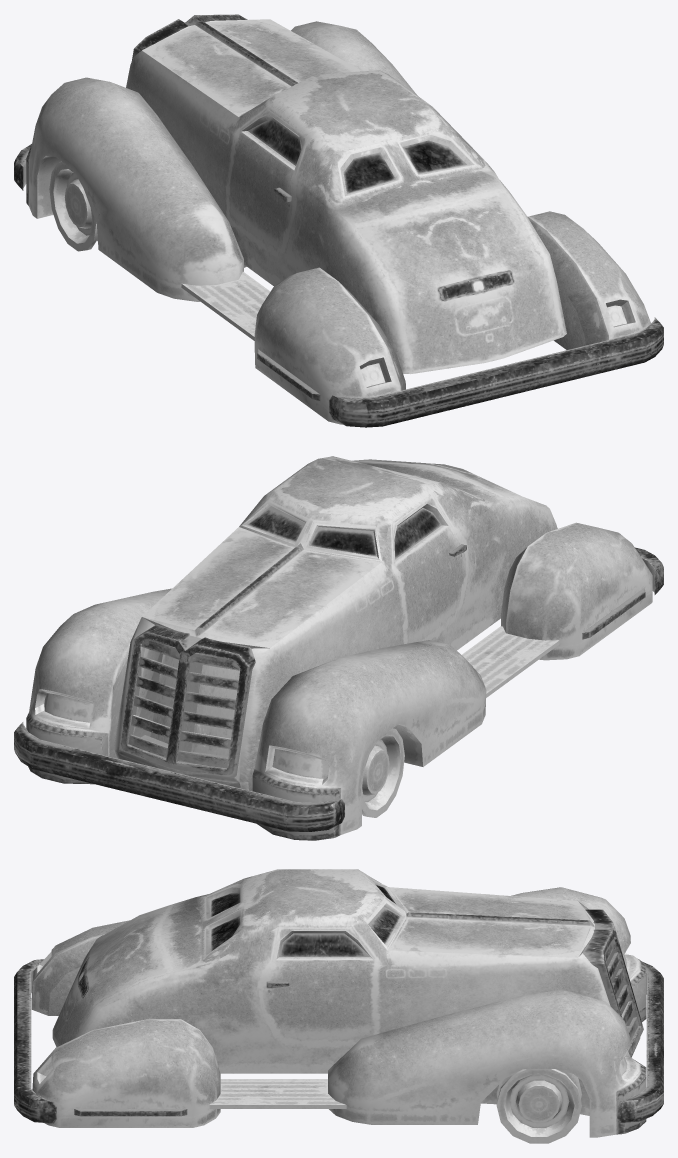
File: deucecoupeas.FBX
3 renders of one model, top to bottom at view 1: azimuth 30°, elevation 25°; view 2: azimuth 150°, elevation 25°; view 3: azimuth 270°, elevation 25°, orthographic. The views are drawn at different scales.
Visible parts, largest first — view 1: Object001; view 2: Object001; view 3: Object001.
Boxes of the visible parts, left/top/right/bottom form: Object001: left=14, top=14, right=663, bottom=427; Object001: left=14, top=456, right=663, bottom=840; Object001: left=14, top=869, right=663, bottom=1143.
Bounding box in the file's own units: 132 × 75.49 × 244.
